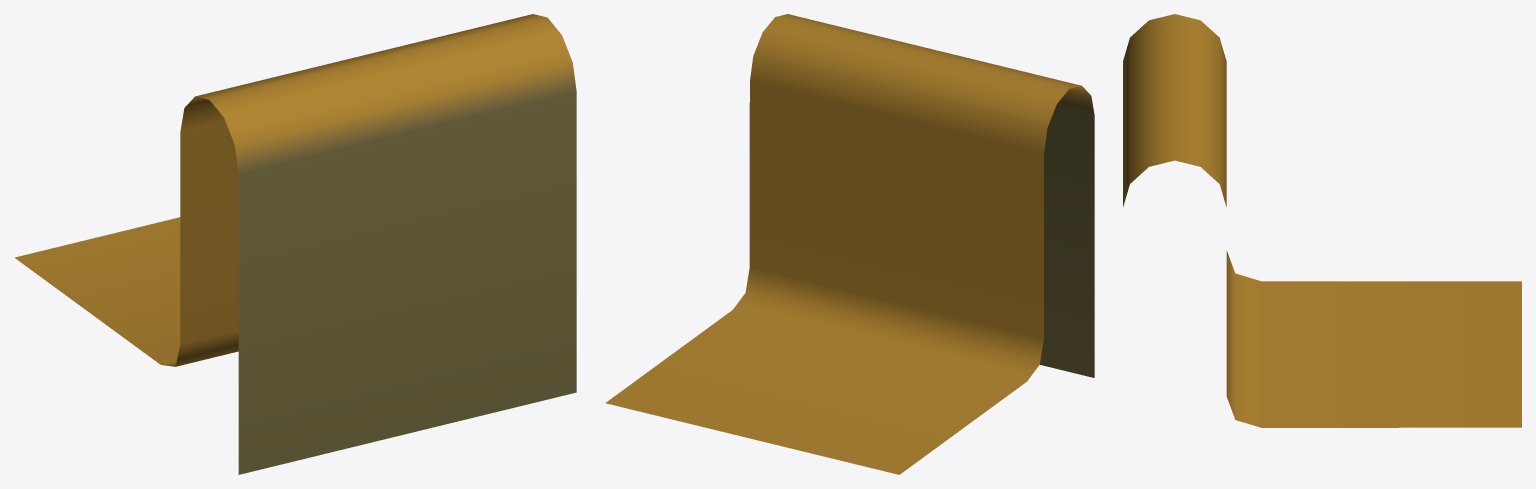
The model's file is Base_PoolBoard.fbx.
The picture shows the model from 3 angles, left to right: view 1: azimuth 30°, elevation 25°; view 2: azimuth 150°, elevation 25°; view 3: azimuth 270°, elevation 25°; orthographic projection. The views are drawn at different scales.
Parts seen in each view (by area): view 1: Base_PoolBoard; view 2: Base_PoolBoard; view 3: Base_PoolBoard.
Part boxes in pixels (x1,y1,x2,y2): Base_PoolBoard: [15, 14, 576, 474]; Base_PoolBoard: [605, 14, 1094, 474]; Base_PoolBoard: [1123, 14, 1521, 427].
Size of the model in its own units: 2000 by 2000 by 2300.
